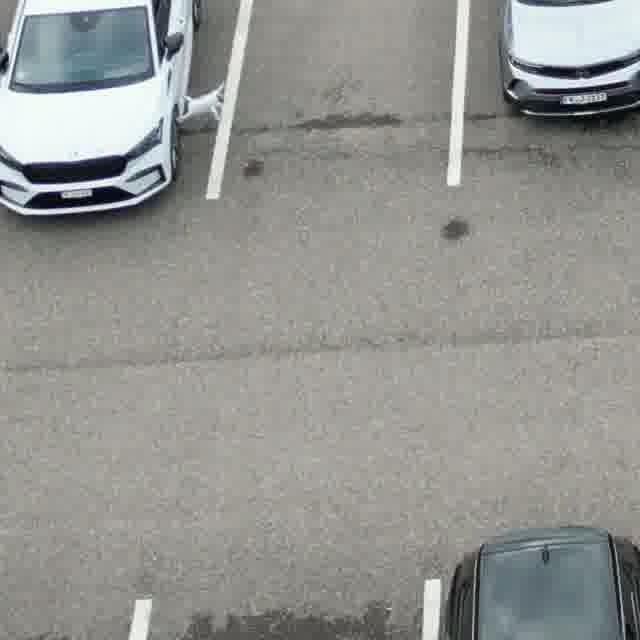Drohne: (179, 83, 224, 123)
